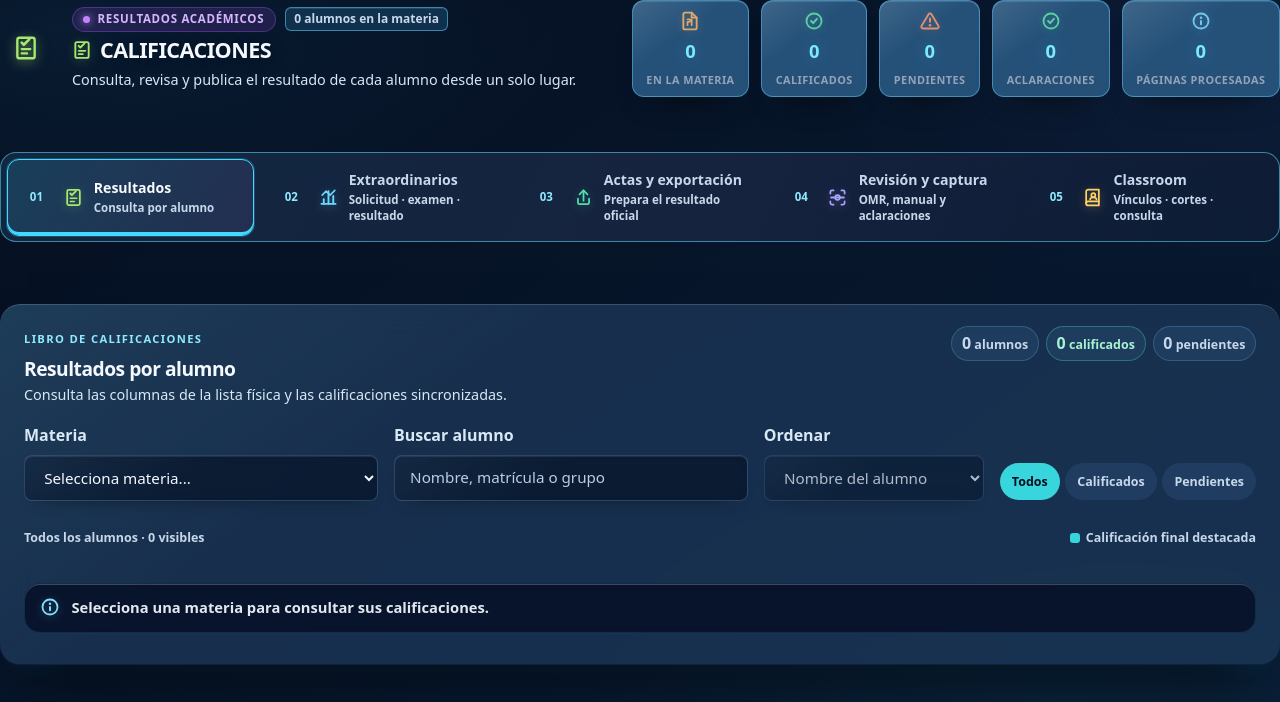
Test: GUI responsive contract › calificaciones conserva contenedores responsive críticos
Click the button "04 Revisión y captura OMR, manual y aclaraciones" at (895, 197), box [772,159,1018,236]
(page scrolled)
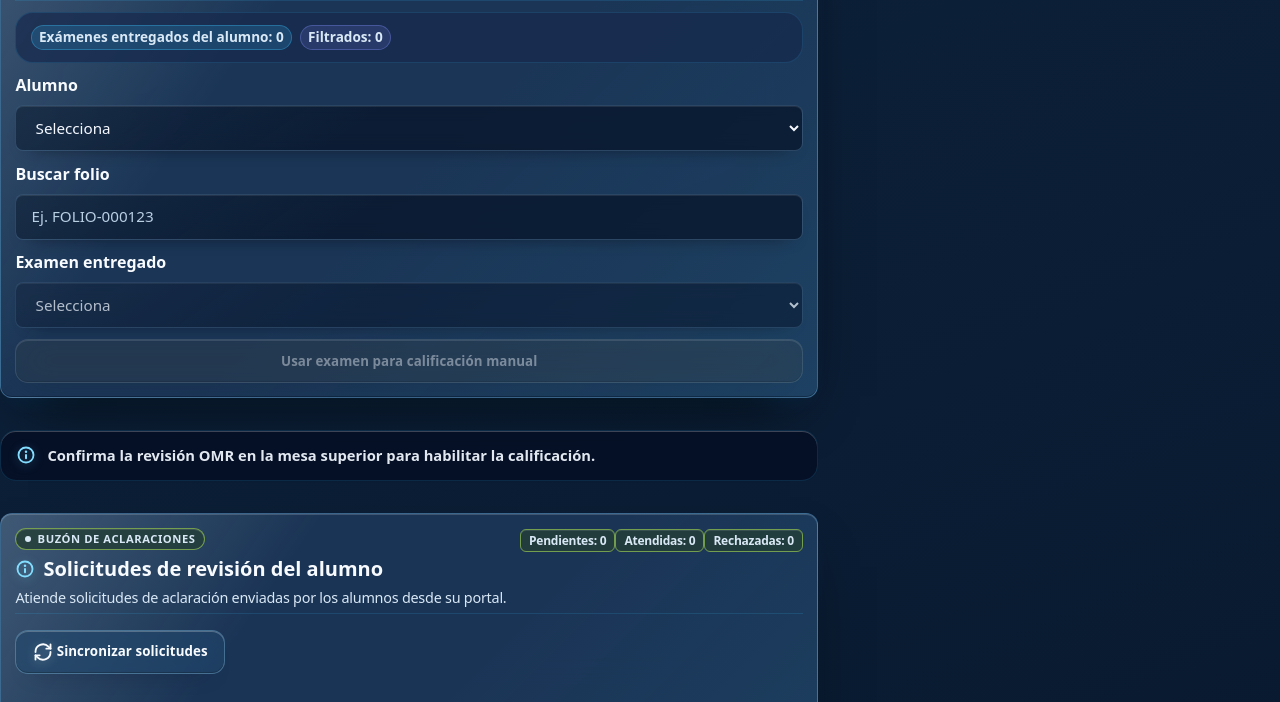
Check: the button "Usar examen para calificación manual" is shown, box [15,339,803,383]
